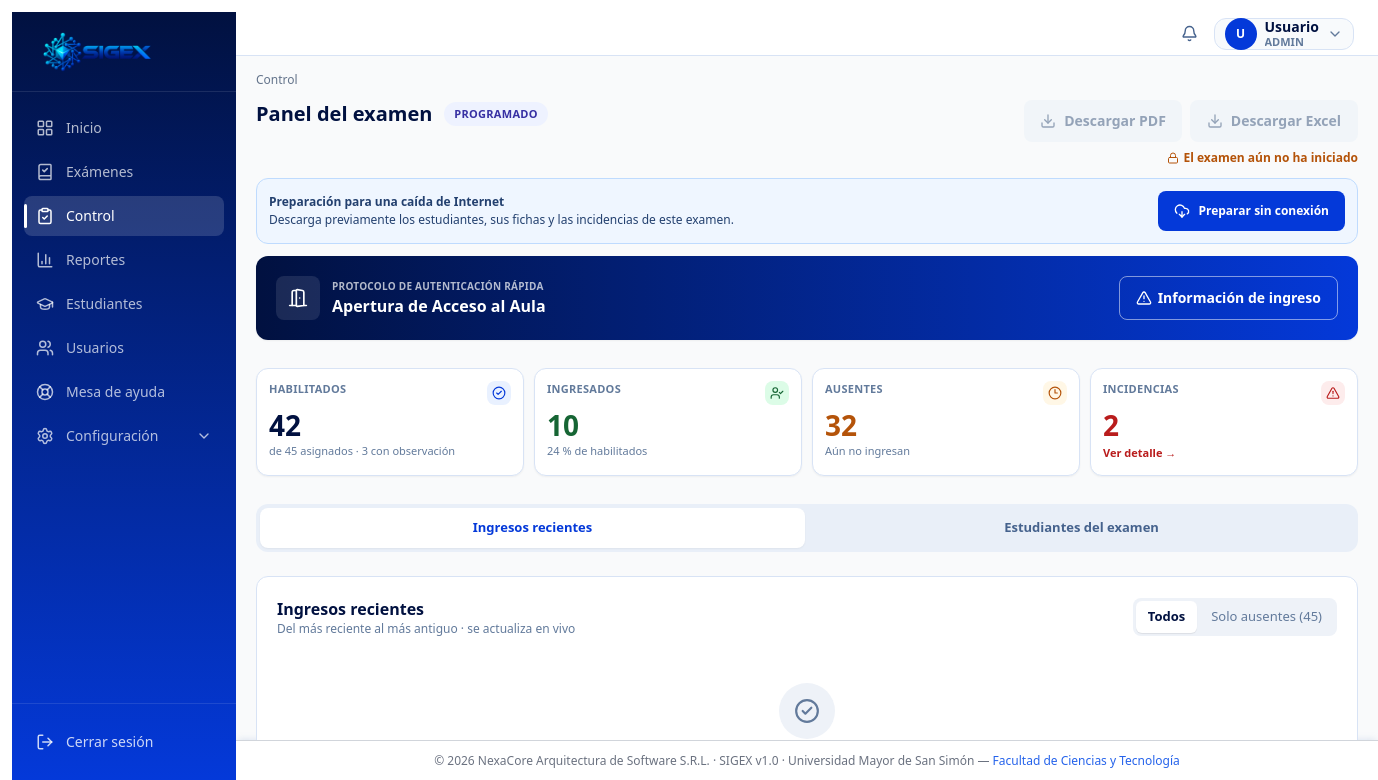
Test case: ControlExamenPage › inutiliza las filas y los controles de la página previa hasta recibir la nueva
This screenshot has width=1378, height=780.
Later steps or results of the test are not shown.
Click the tab "Estudiantes del examen" at [1082, 528], box 809,508 -> 1354,548
(page scrolled)
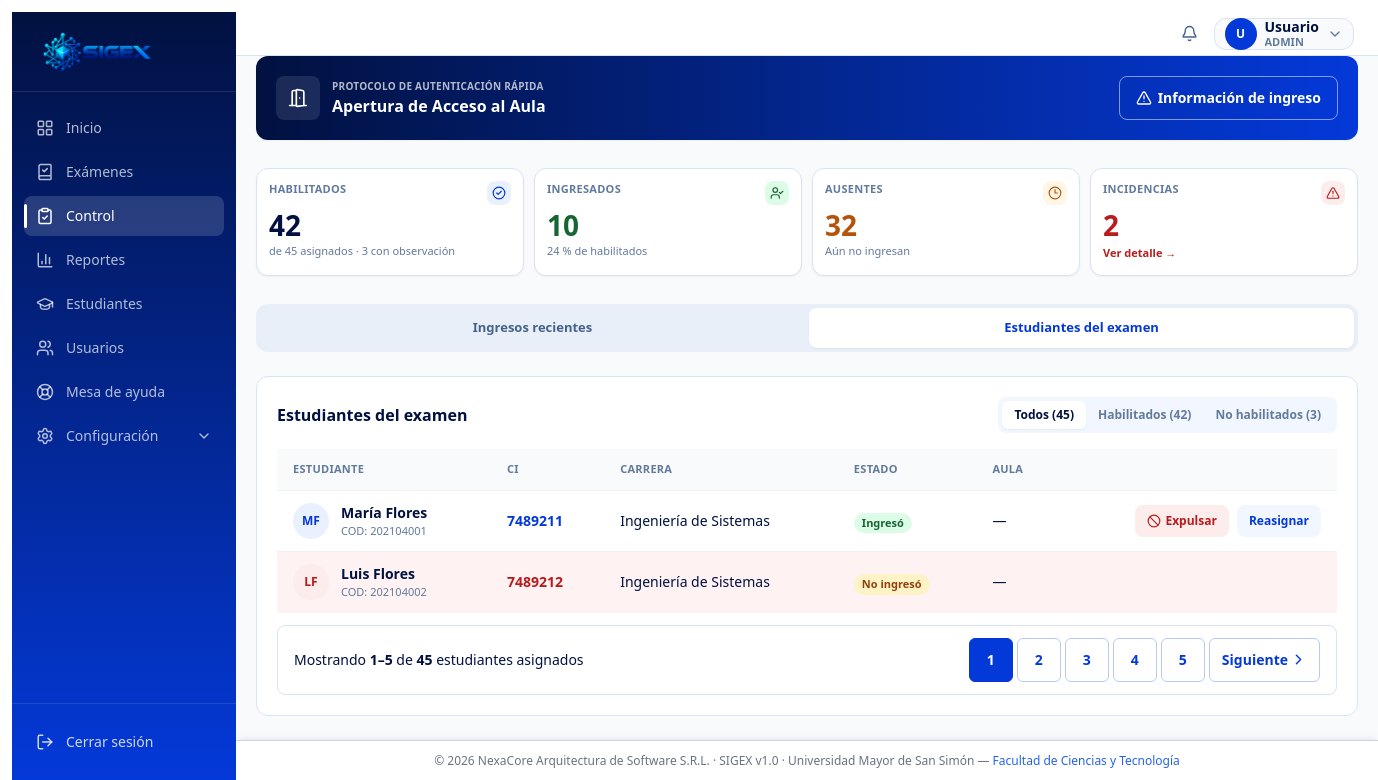
Click the button with aria-label "Página siguiente" at [1264, 660], box 1209,638 -> 1320,682
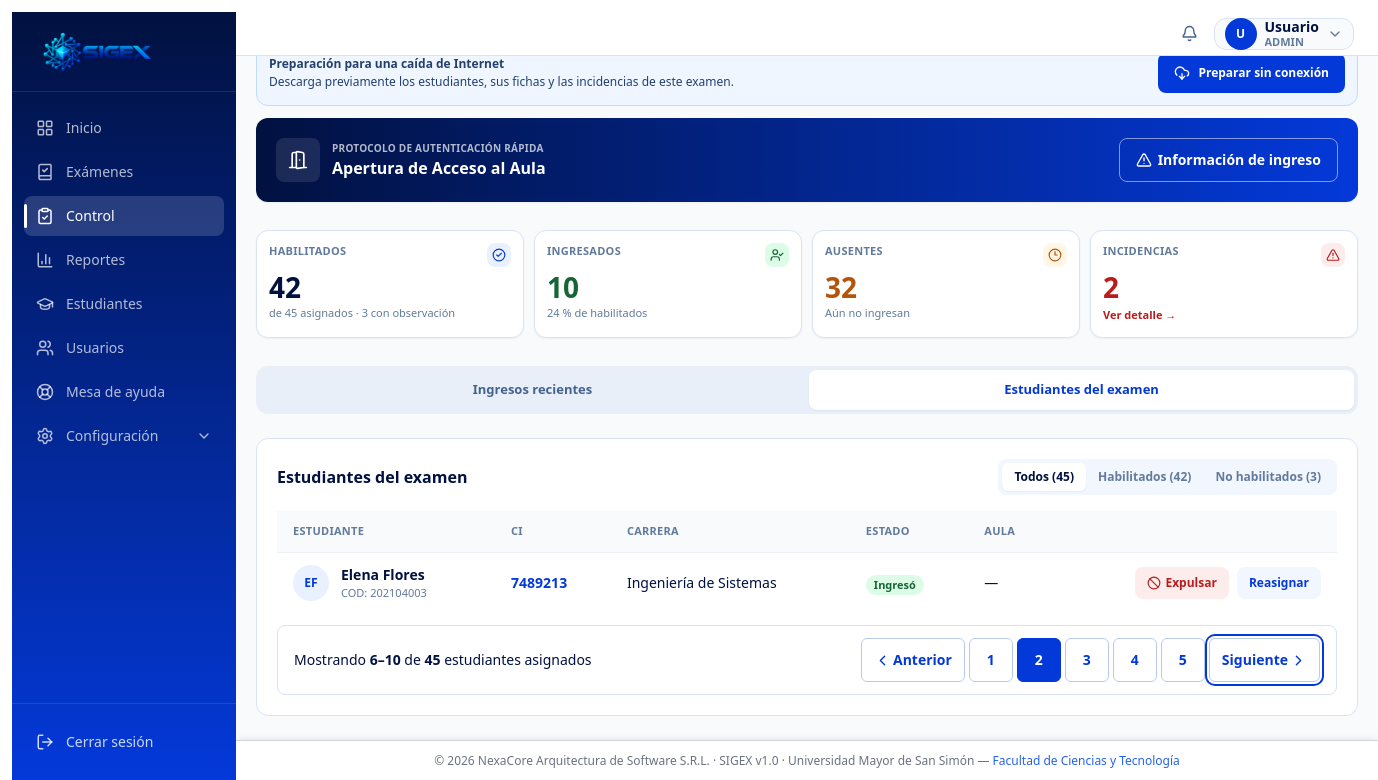
Check: the element that starts with "Estudiante" is shown, box 277,511 -> 1337,695
Check: the text "Elena Flores" is shown, box 341,564 -> 427,584
Check: the text "María Flores" is gone
